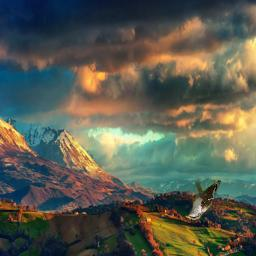Cuckoo: (185, 180, 221, 220)
